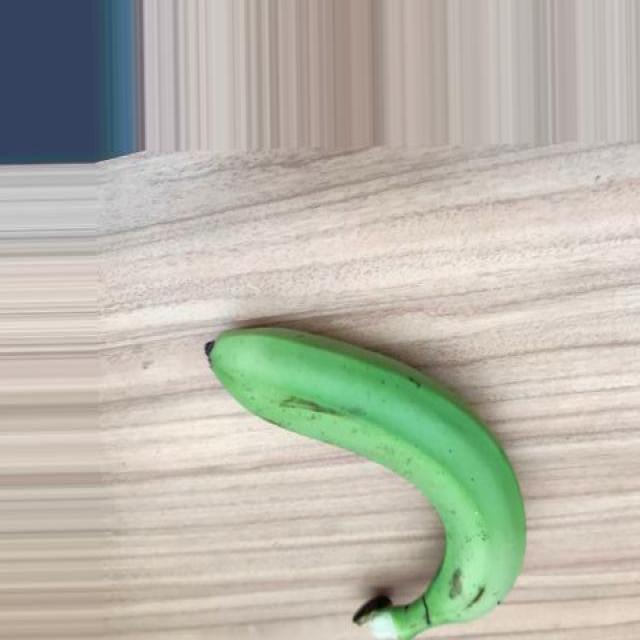Unripe: (202, 324, 528, 640)
